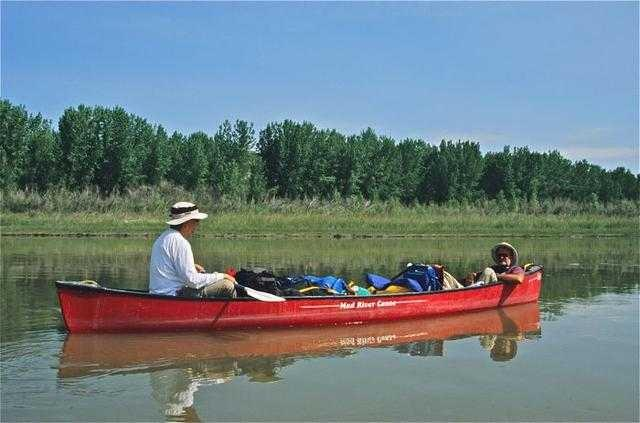kayak: (57, 266, 541, 340)
